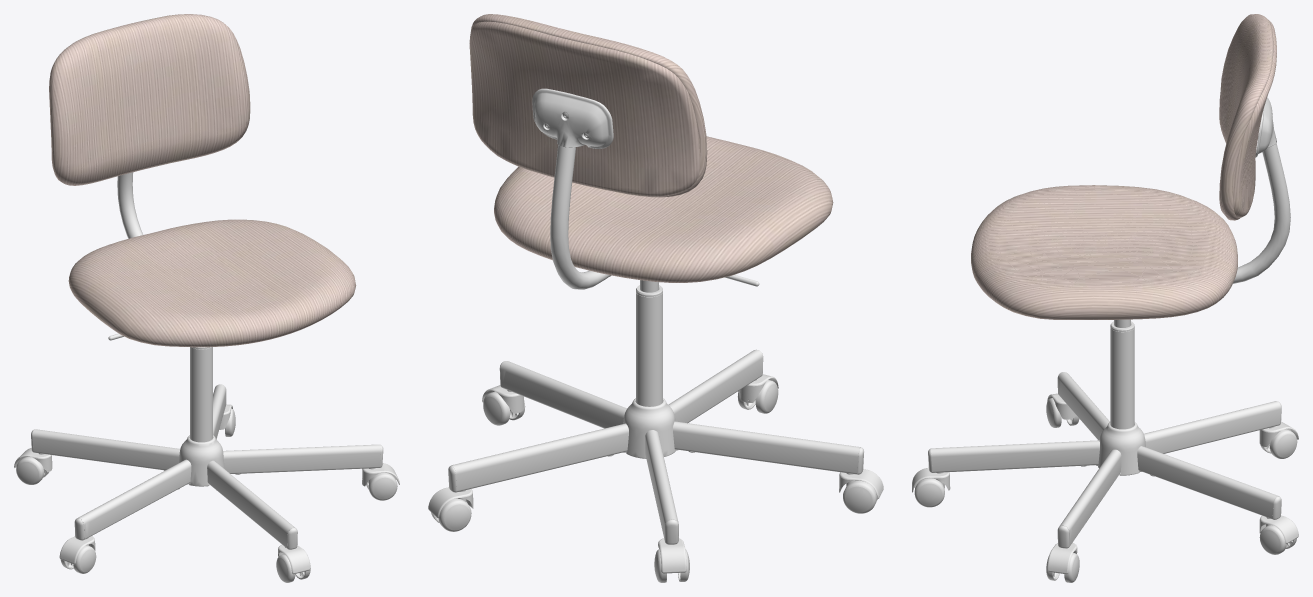
3 renders of one model, left to right at view 1: azimuth 30°, elevation 25°; view 2: azimuth 150°, elevation 25°; view 3: azimuth 270°, elevation 25°, orthographic. The views are drawn at different scales.
Parts seen in each view (by area): view 1: 50564332_swivel_chair:1, 50564332_swivel_chair:2; view 2: 50564332_swivel_chair:1, 50564332_swivel_chair:2; view 3: 50564332_swivel_chair:1, 50564332_swivel_chair:2.
Part boxes in pixels (bbox=[...]): 50564332_swivel_chair:1: bbox=[49, 14, 356, 347]; 50564332_swivel_chair:2: bbox=[14, 172, 399, 582]; 50564332_swivel_chair:1: bbox=[469, 14, 833, 282]; 50564332_swivel_chair:2: bbox=[428, 88, 883, 582]; 50564332_swivel_chair:1: bbox=[971, 14, 1276, 319]; 50564332_swivel_chair:2: bbox=[912, 97, 1298, 582].
Size of the model in its own units: 0.6733 by 0.8373 by 0.6407.
Materials: 3 (1 with a texture image).
